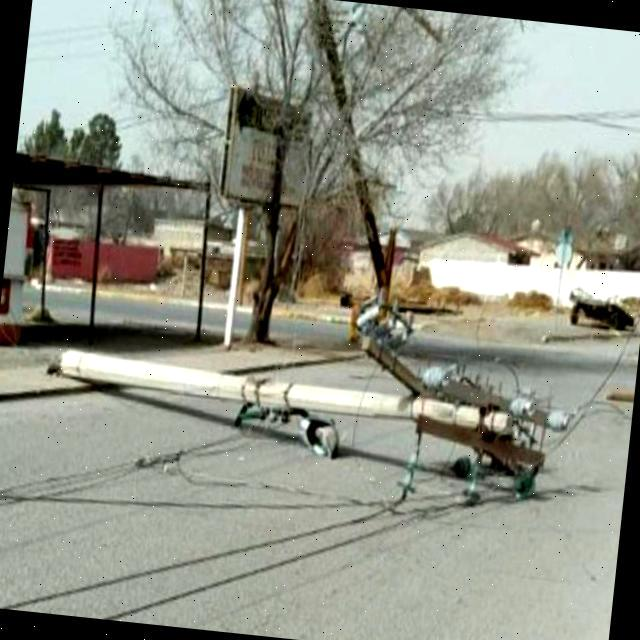Broken Pole: (52, 300, 580, 495)
